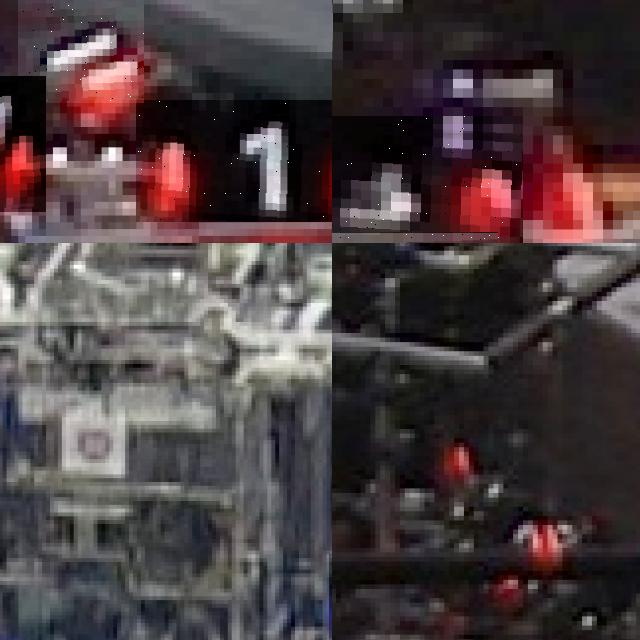R1: (136, 99, 332, 222), (18, 0, 143, 103), (0, 76, 46, 212)
R3: (332, 116, 523, 243)
